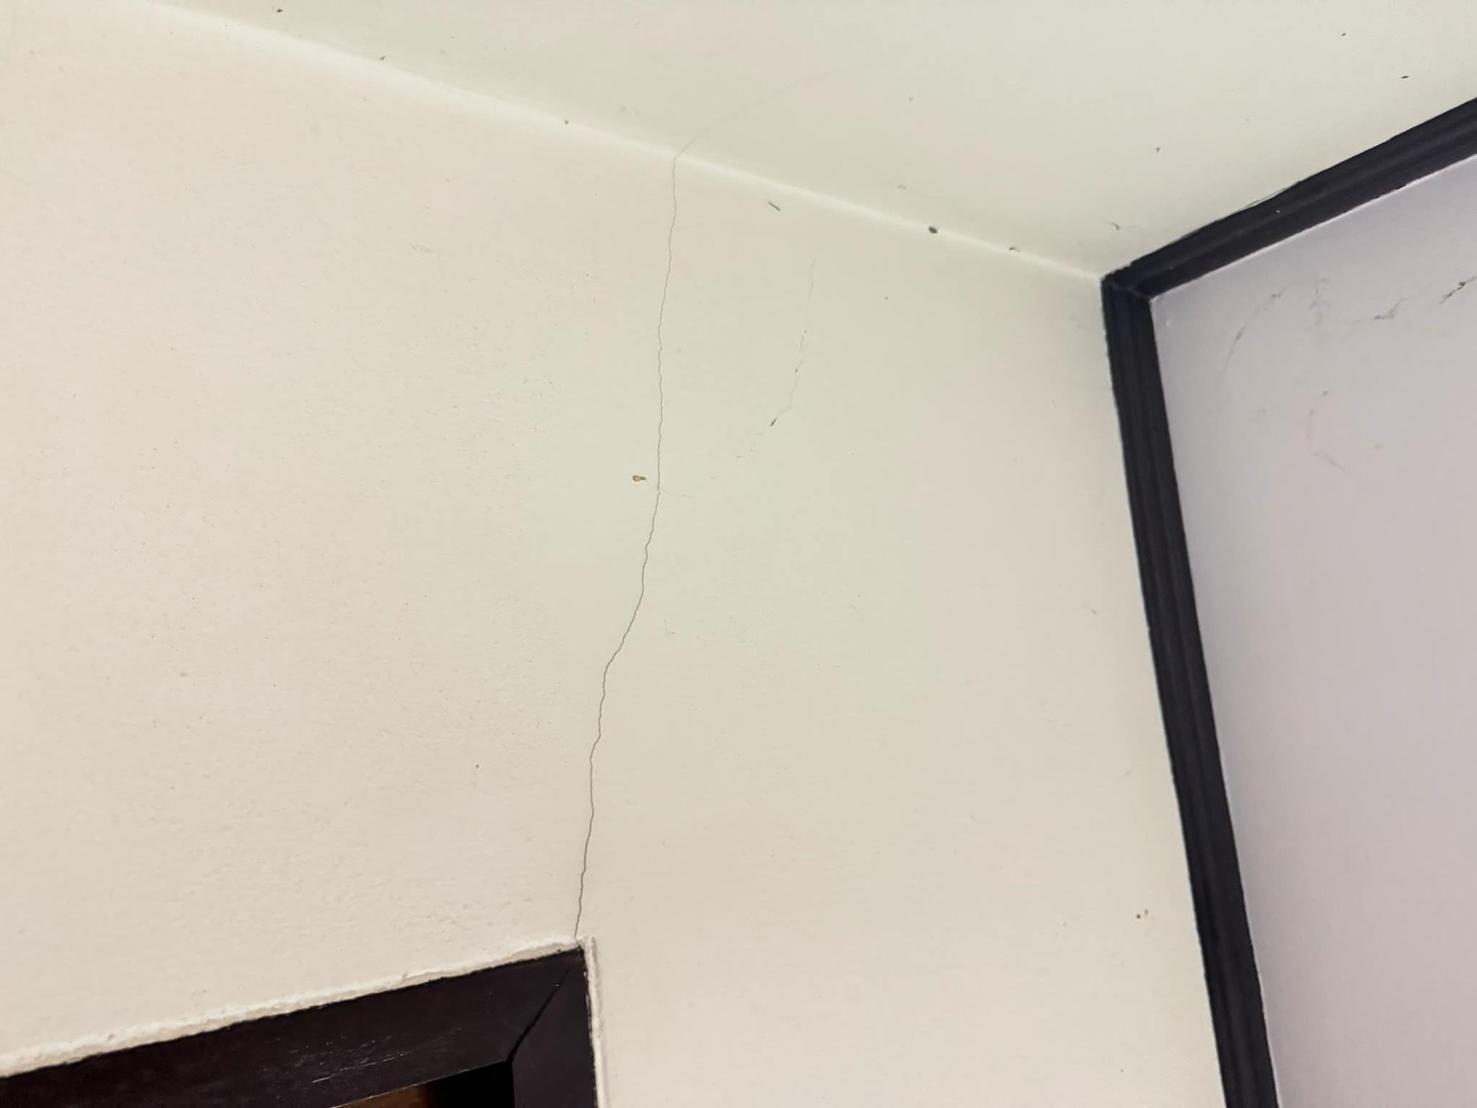Low: (546, 134, 719, 952)
